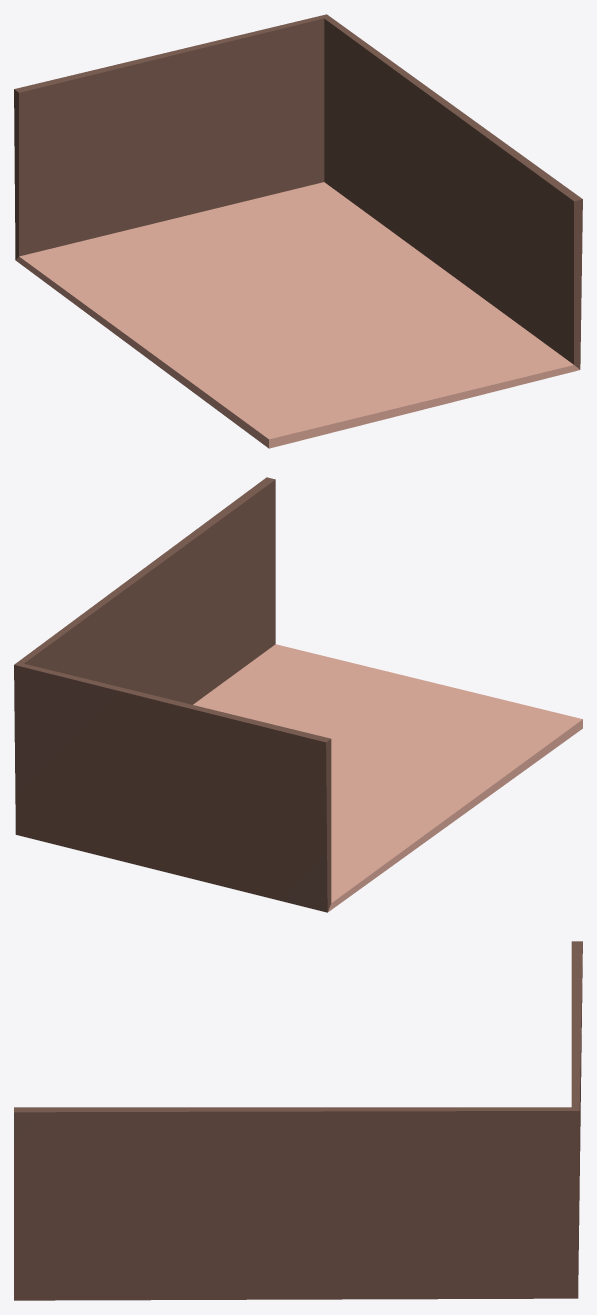
Rendered from beijing.fbx.
3 views of the same model, one above another, from view 1: azimuth 30°, elevation 25°; view 2: azimuth 150°, elevation 25°; view 3: azimuth 270°, elevation 25° (orthographic). The views are drawn at different scales.
Parts seen in each view (by area): view 1: Box027, Box027.001; view 2: Box027, Box027.001; view 3: Box027.
Boxes of the visible parts, bbox=[...] form: Box027: bbox=[14, 14, 582, 369]; Box027.001: bbox=[15, 182, 579, 448]; Box027: bbox=[14, 477, 331, 912]; Box027.001: bbox=[193, 644, 582, 911]; Box027: bbox=[14, 941, 582, 1300].
Bounding box in the file's own units: 70.91 × 37.3 × 99.77.
